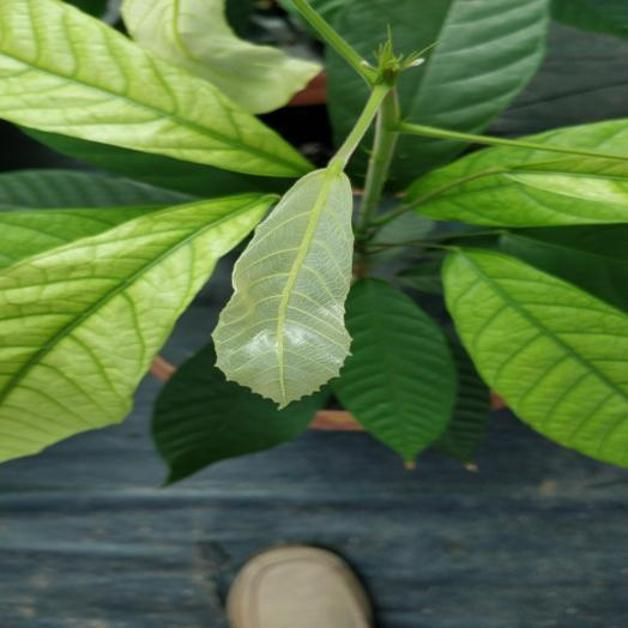Healthy Leaf: (328, 0, 554, 128), (151, 347, 329, 487), (329, 280, 458, 465)
Iron: (0, 195, 272, 461), (0, 0, 309, 177), (446, 249, 627, 463), (212, 164, 353, 407), (123, 0, 323, 115), (406, 146, 627, 227), (524, 120, 627, 153)
